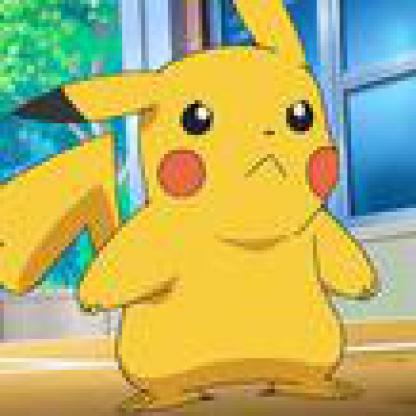Pikachu: (1, 1, 413, 413)
